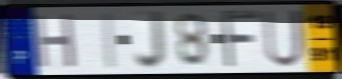8: (173, 12, 210, 67)
F: (219, 8, 262, 70)
H: (32, 12, 78, 70)
I: (100, 11, 119, 72)
J: (133, 8, 168, 72)
U: (261, 8, 307, 70)
